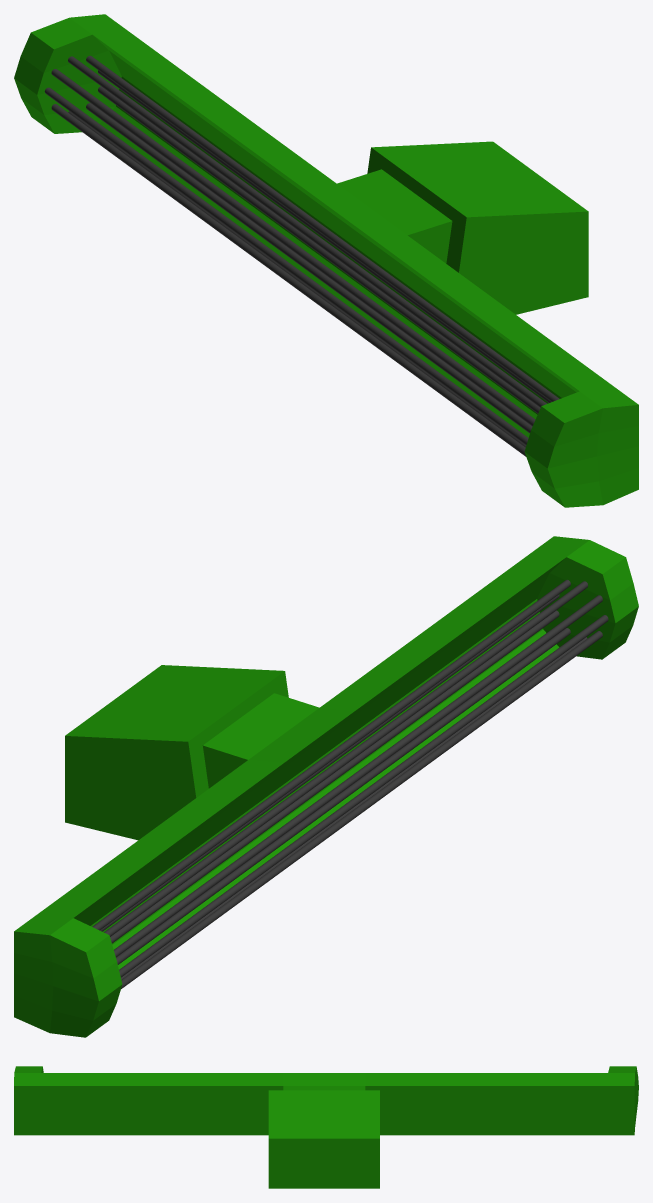
Rendered from FrontPart.fbx.
3 views of the same model, one above another, from view 1: azimuth 30°, elevation 25°; view 2: azimuth 150°, elevation 25°; view 3: azimuth 270°, elevation 25° (orthographic). The views are drawn at different scales.
Parts seen in each view (by area): view 1: FrontThingie, Cylinder; view 2: FrontThingie, Cylinder; view 3: FrontThingie.
Part boxes in pixels (left/top/right/bottom): FrontThingie: left=14, top=14, right=638, bottom=507; Cylinder: left=44, top=55, right=559, bottom=456; FrontThingie: left=14, top=536, right=638, bottom=1037; Cylinder: left=92, top=579, right=608, bottom=988; FrontThingie: left=14, top=1066, right=638, bottom=1188.
Size of the model in its own units: 160 by 65.25 by 580.
